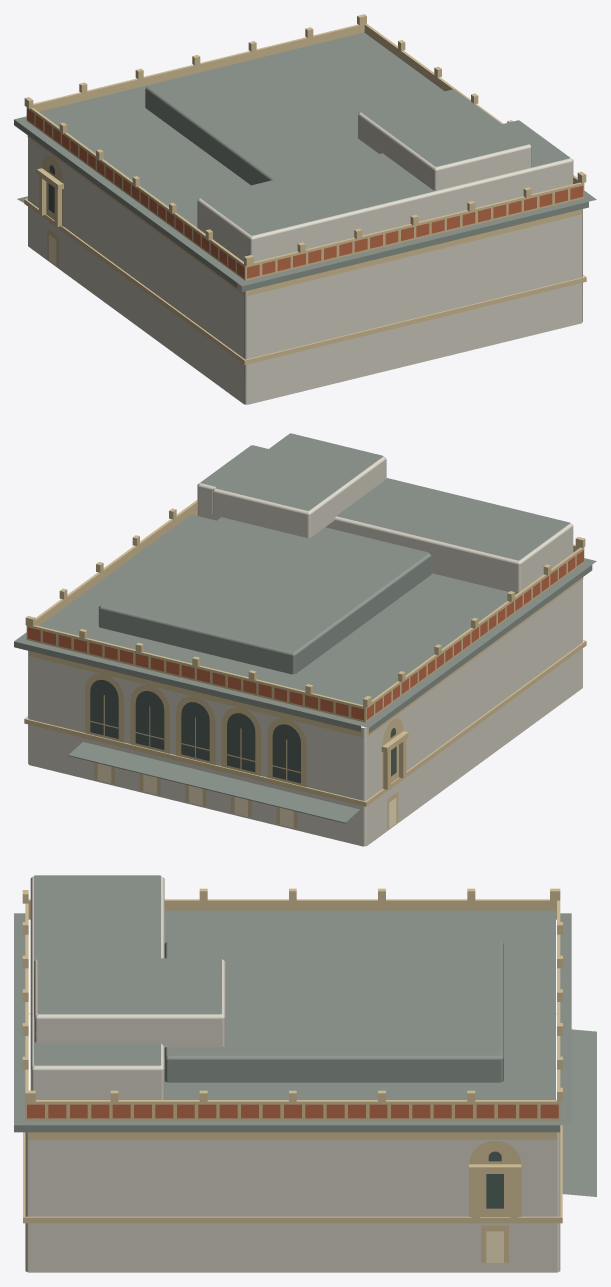
The model's file is nyc-bam.glb.
The picture shows the model from 3 angles, top to bottom: view 1: azimuth 30°, elevation 25°; view 2: azimuth 150°, elevation 25°; view 3: azimuth 270°, elevation 25°; orthographic projection. The views are drawn at different scales.
Parts seen in each view (by area): view 1: BAM Peter Jay Sharp Building; view 2: BAM Peter Jay Sharp Building; view 3: BAM Peter Jay Sharp Building.
Boxes of the visible parts, x1,y1,x2,y2 form: BAM Peter Jay Sharp Building: (14,14,596,404); BAM Peter Jay Sharp Building: (14,433,596,846); BAM Peter Jay Sharp Building: (14,875,596,1272).
Size of the model in its own units: 57.6 by 29 by 67.
